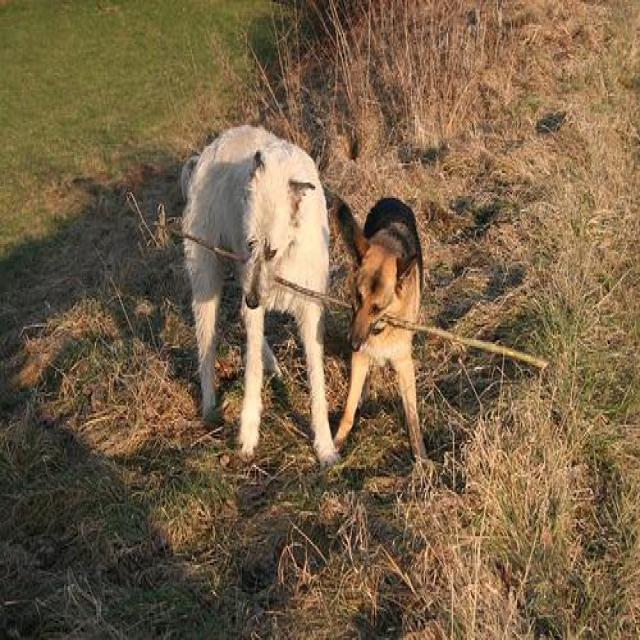irish_wolfhound: (182, 125, 334, 463)
